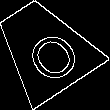O_NW: (10, 15, 78, 81)
